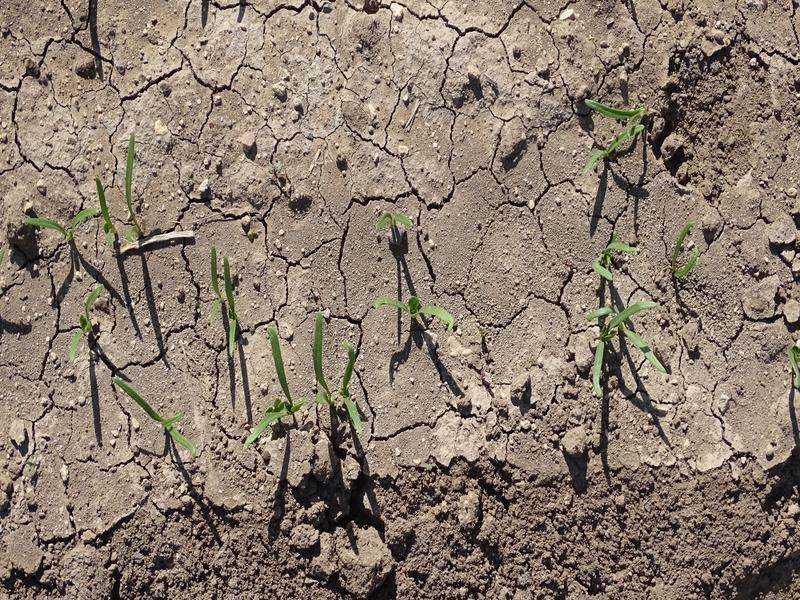Espinaca: (575, 89, 659, 171), (114, 376, 195, 454), (591, 301, 664, 383), (254, 327, 301, 441), (205, 254, 246, 356), (373, 286, 459, 328), (92, 178, 130, 246), (29, 210, 95, 249), (123, 142, 147, 243), (69, 287, 102, 358), (308, 317, 331, 415), (593, 240, 638, 285), (342, 341, 361, 435), (378, 206, 421, 235)
